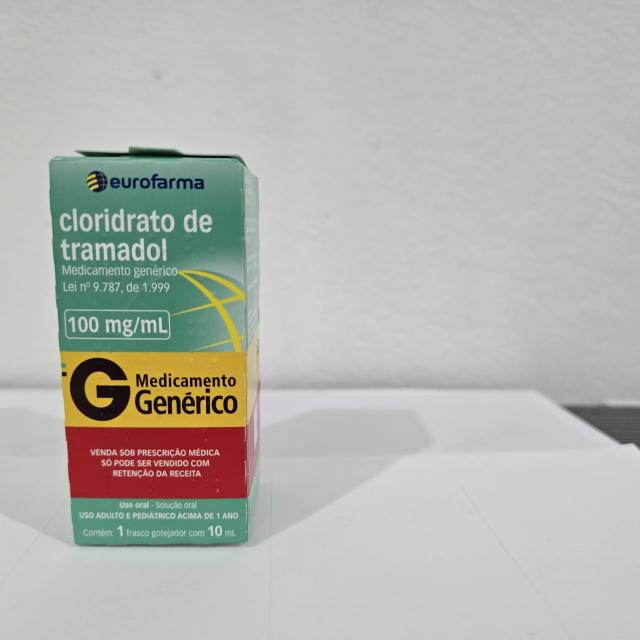tramadol: (44, 143, 264, 554)
